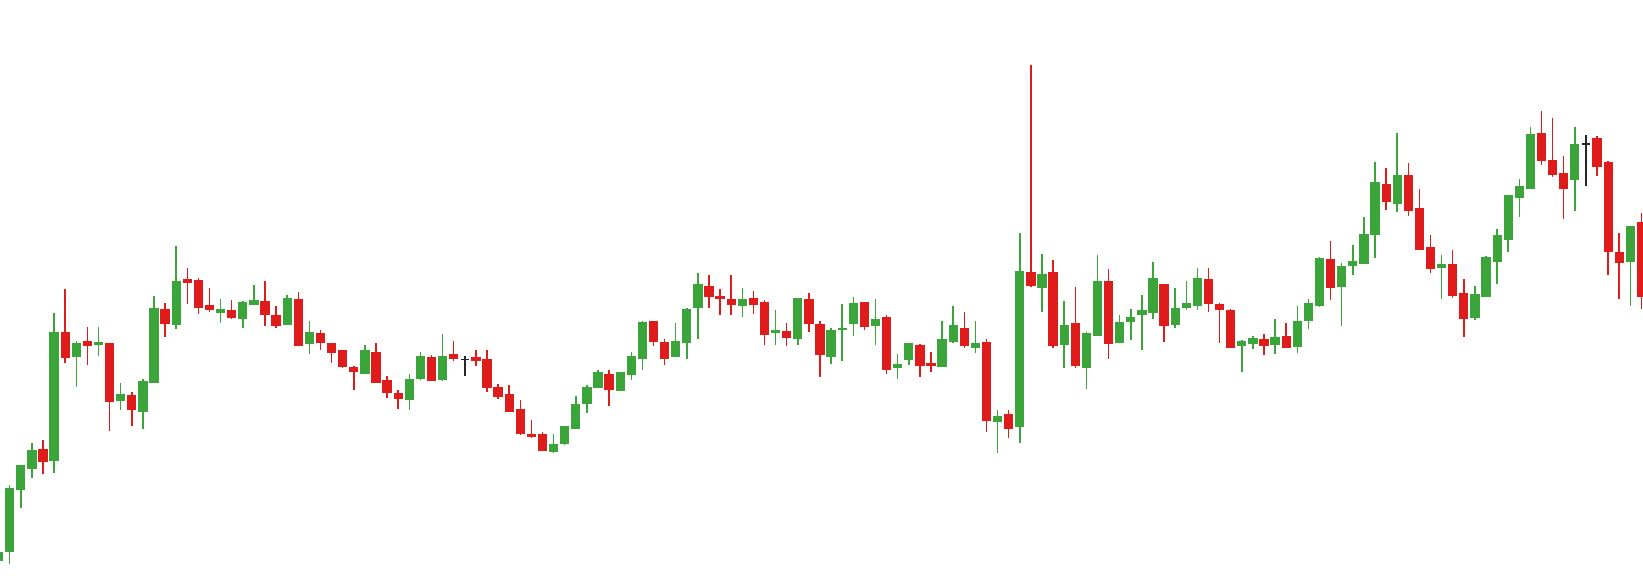sell: (1392, 112, 1547, 215)
